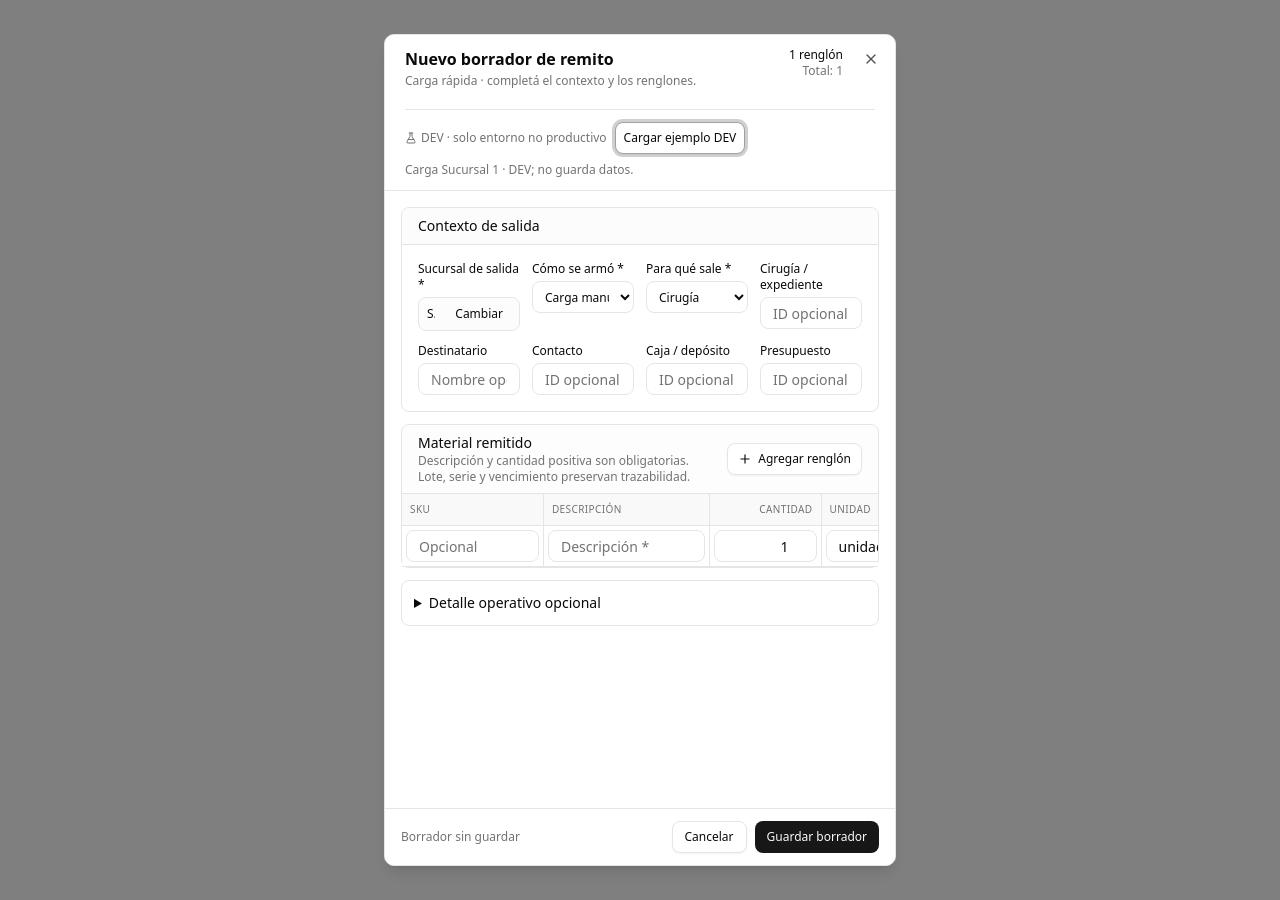
RemitoDraftDialog › loads the non-persisted DEV example only after explicit opt-in
Click the button "Cargar ejemplo DEV". click: {"x": 680, "y": 138}
box: [615,122,745,154]
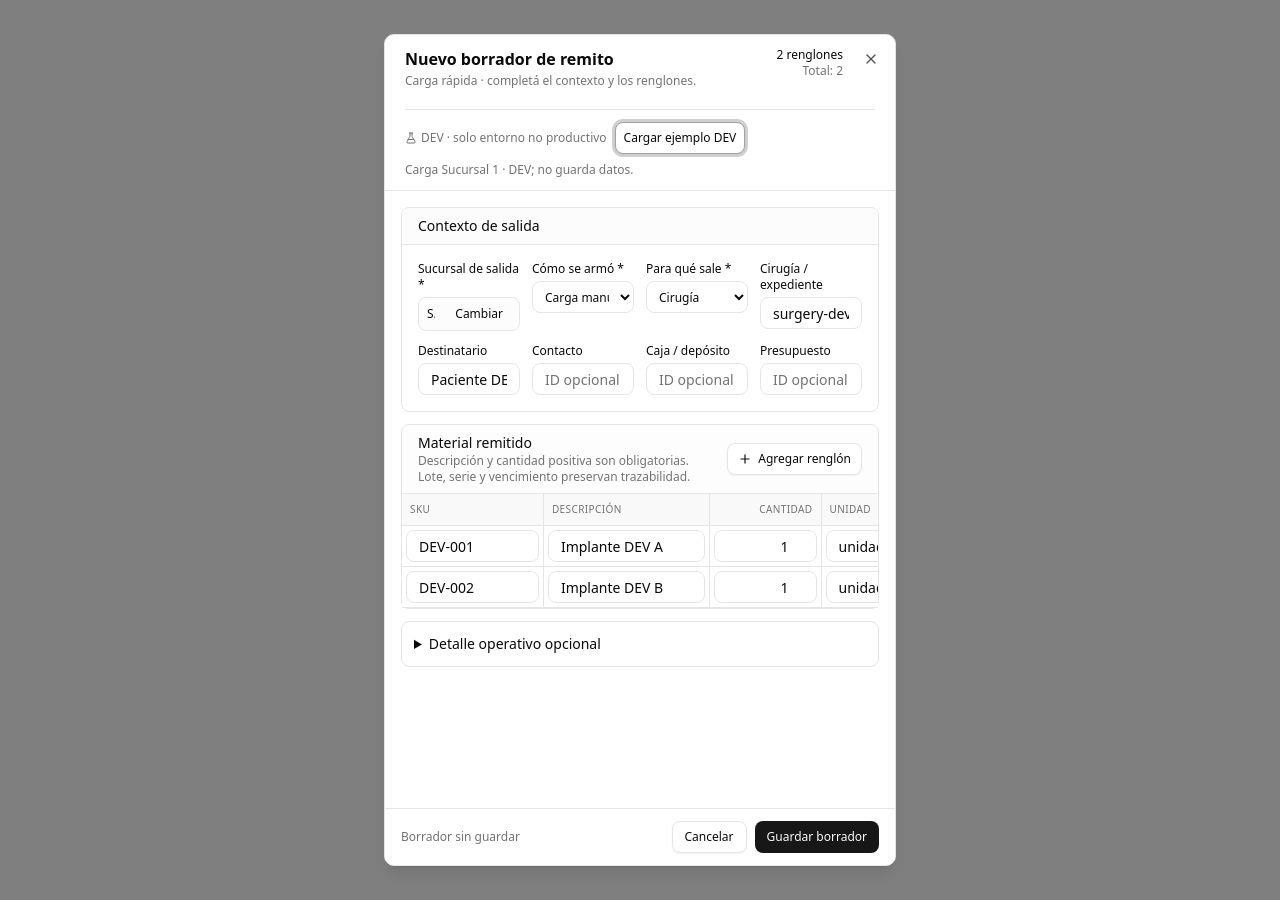
expect the field showing "surgery-dev" is shown: met, box [760,297,862,329]
expect the field showing "Paciente DEV" is shown: met, box [418,363,520,395]
expect the field named "Descripción del renglón 1" holds "Implante DEV A": met, box [548,530,704,562]
